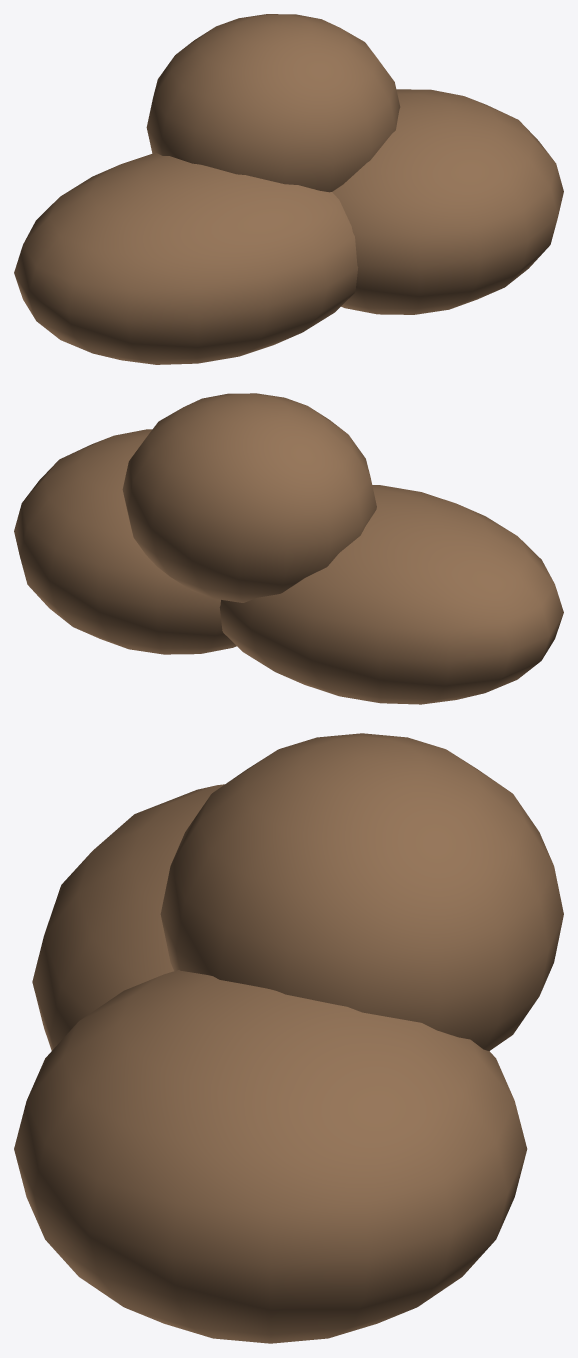
Rendered from dog-poo.glb.
3 views of the same model, one above another, from view 1: azimuth 30°, elevation 25°; view 2: azimuth 150°, elevation 25°; view 3: azimuth 270°, elevation 25° (orthographic). The views are drawn at different scales.
Parts seen in each view (by area): view 1: small rounded pile.001, small rounded pile.002, small rounded pile; view 2: small rounded pile.001, small rounded pile, small rounded pile.002; view 3: small rounded pile.002, small rounded pile, small rounded pile.001.
Boxes of the visible parts, bbox=[...] form: small rounded pile.001: bbox=[14, 152, 358, 364]; small rounded pile.002: bbox=[332, 89, 563, 314]; small rounded pile: bbox=[146, 14, 400, 192]; small rounded pile.001: bbox=[219, 485, 563, 704]; small rounded pile: bbox=[122, 393, 376, 602]; small rounded pile.002: bbox=[14, 429, 236, 654]; small rounded pile.002: bbox=[14, 970, 527, 1343]; small rounded pile: bbox=[160, 733, 563, 1050]; small rounded pile.001: bbox=[32, 784, 224, 1050].
Bounding box in the file's own units: 0.275 × 0.139 × 0.15.
